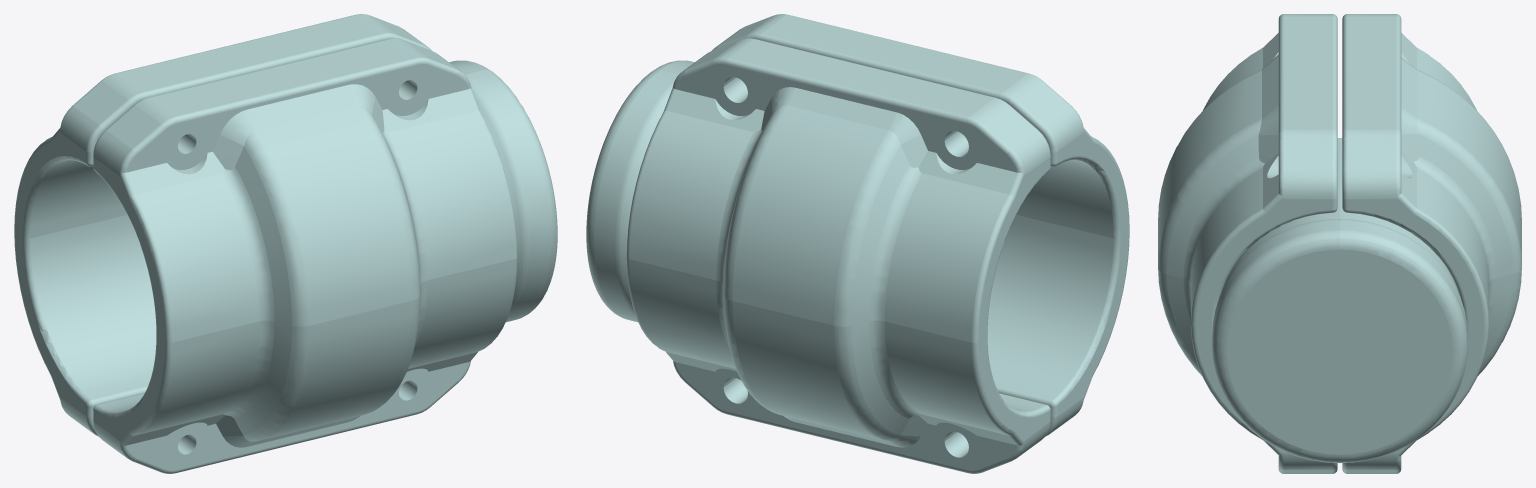
3 views of the same model, side by side, from view 1: azimuth 30°, elevation 25°; view 2: azimuth 150°, elevation 25°; view 3: azimuth 270°, elevation 25° (orthographic). The views are drawn at different scales.
Bounding box in the file's own units: 92 × 77 × 74.3.
